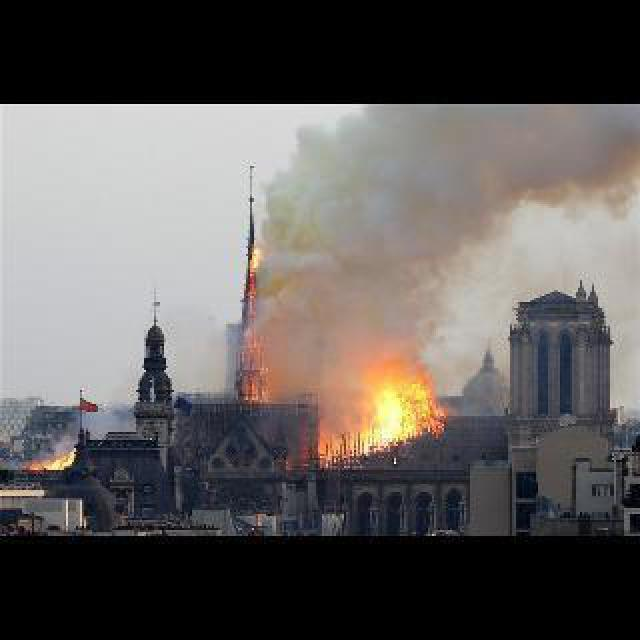Fire: (314, 378, 446, 454), (238, 234, 270, 398), (24, 444, 82, 470)
Smoke: (266, 102, 638, 380)
